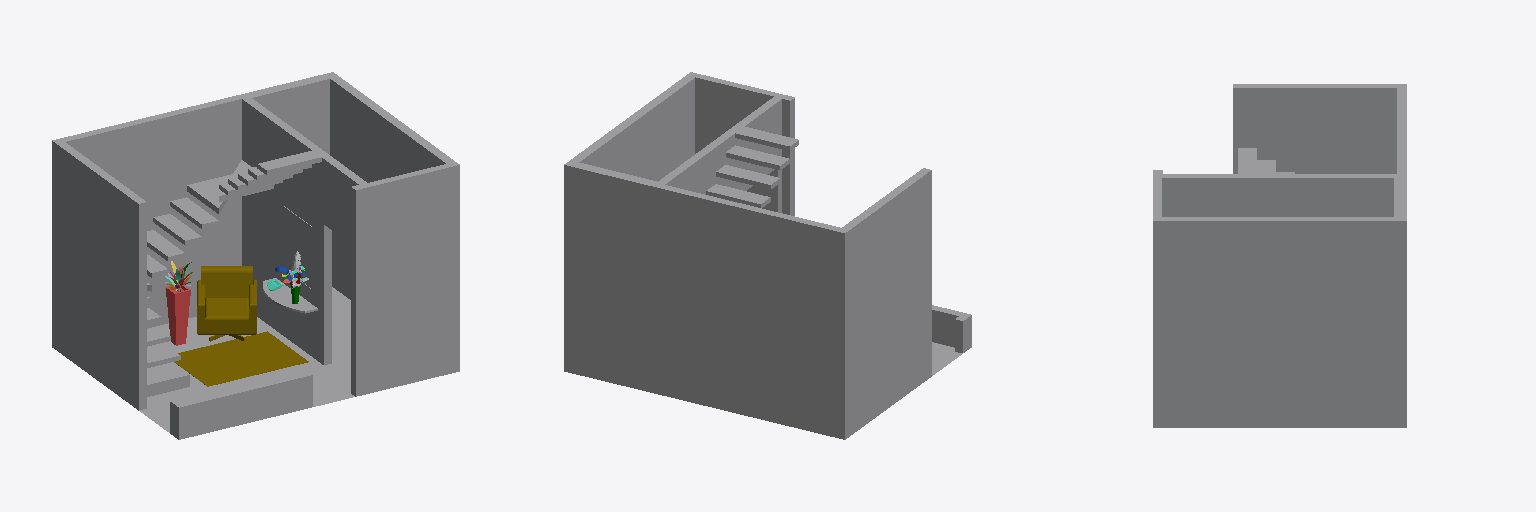
Rendered from stairsScene.obj.
3 views of the same model, side by side, from view 1: azimuth 30°, elevation 25°; view 2: azimuth 150°, elevation 25°; view 3: azimuth 270°, elevation 25° (orthographic).
Parts seen in each view (by area): view 1: Layer0_001, Chair_Arm_Rectangular_001, rug_hedda_001, Component_1_001; view 2: Layer0_001; view 3: Layer0_001.
Part boxes in pixels (bbox=[...]): Layer0_001: bbox=[52, 72, 459, 439]; Chair_Arm_Rectangular_001: bbox=[197, 266, 256, 341]; rug_hedda_001: bbox=[174, 331, 308, 386]; Component_1_001: bbox=[166, 284, 190, 345]; Layer0_001: bbox=[564, 72, 971, 439]; Layer0_001: bbox=[1153, 84, 1406, 427].
Size of the model in its own units: 172 by 120 by 134.